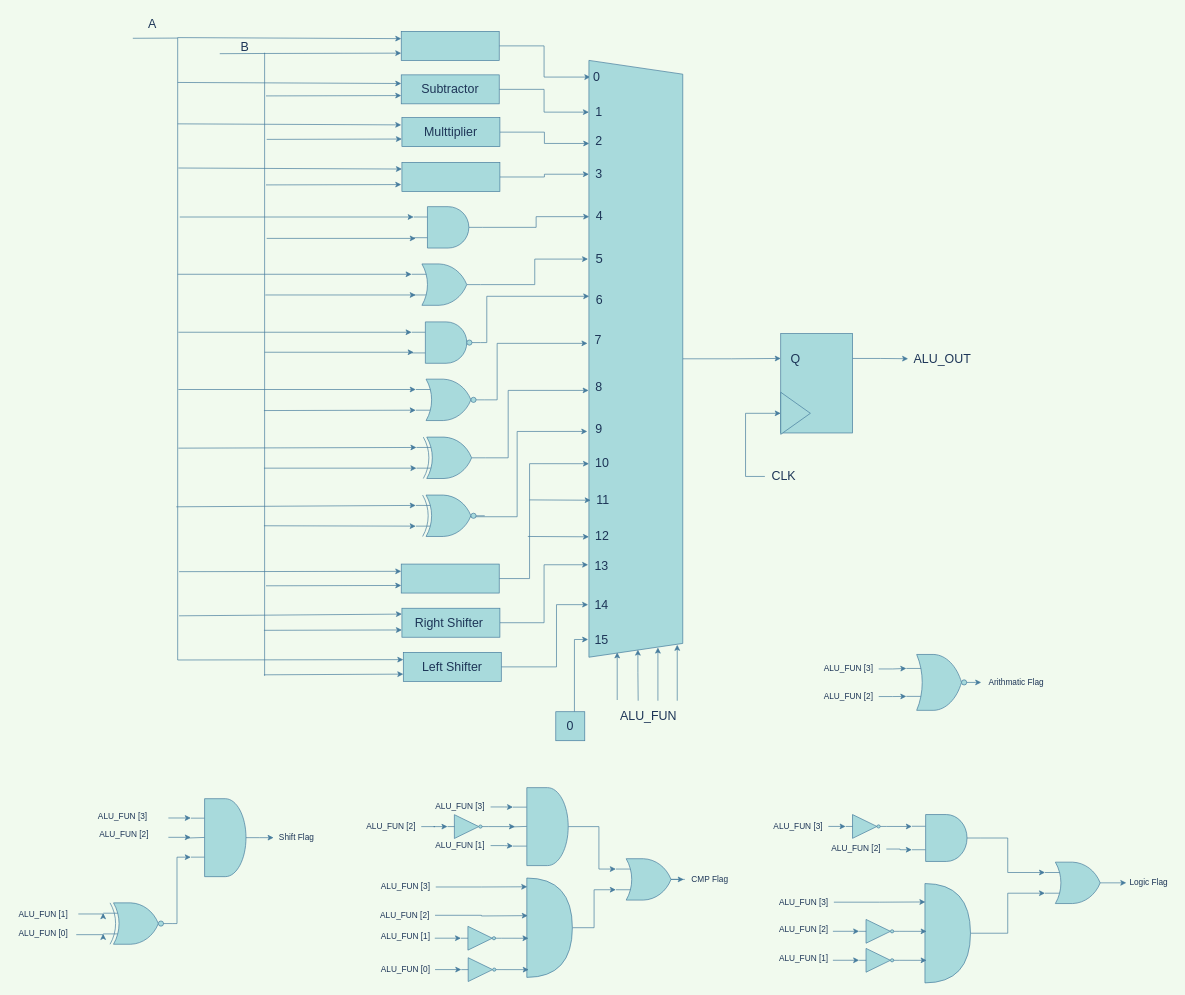
Some shapes in this 1185 by 995 pixel diagram are drawn without their labels. The centre of each missing label's shape, as x and y in pixels:
"Adder" belongs at pixel 450 45.
"Comparator" belongs at pixel 450 578.
"Divider" belongs at pixel 450 176.
